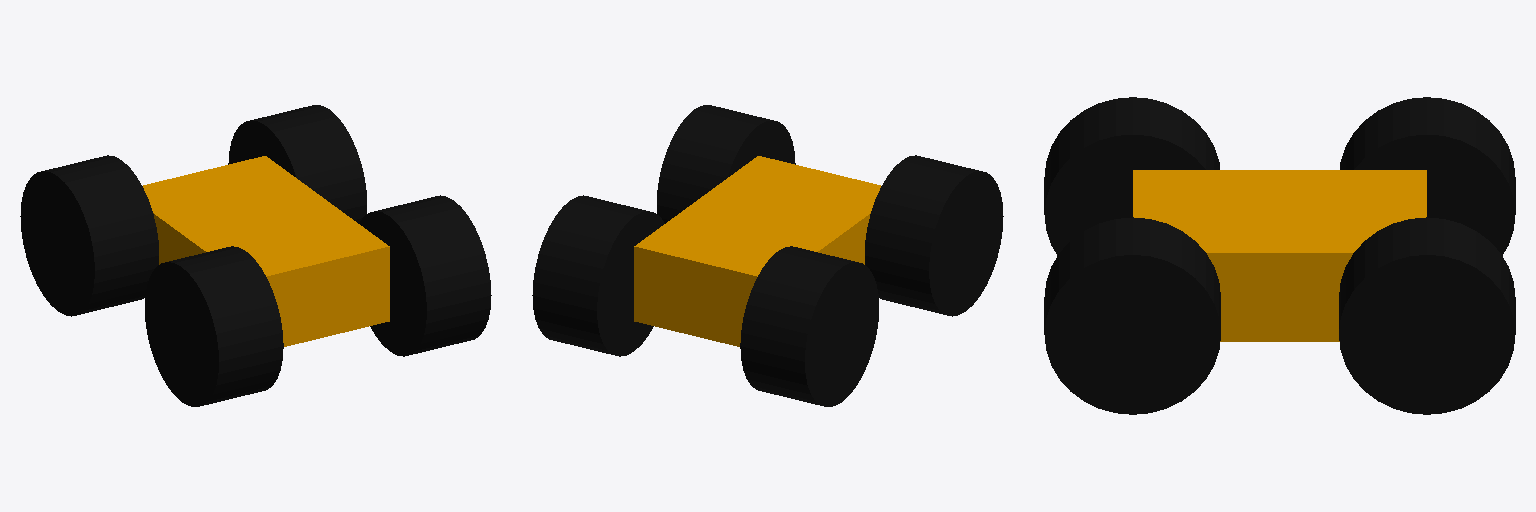
The robot description file, URDF, robot "1gou":
<?xml version="1.0"?>
<robot name="1gou">

	<link name="base_link">
		<visual>
			<geometry>
				<box size="0.2 0.3 0.1"/>
				<origin rpy="0 0 1.54" xyz="0 0 0.05"/>
				<material name="white">
					<color rgba="0.5 0.5 0.5 1"/>
				</material>
			</geometry>

		</visual>
		<collision>
			<geometry>
				<box size="0.2 0.3 0.1"/>
			</geometry>

		</collision>
		<inertial>
     		 <origin xyz="0 0 0"/>
		<mass value="0.500"/>
      		<inertia ixx="0.0020833333" ixy="0" ixz="0" iyy="0.0041666666" iyz="0" izz="0.0054166666"/>
    		</inertial>

	</link>


	<link name="wheel1">
		<visual>
			<geometry>
				<cylinder length="0.09" radius="0.09"/>
				
			</geometry>
			<origin rpy="0 0 0" xyz="0 0 0"/>
			<material name="black">
				<color rgba="0.1 0.1 0.1 1"/>
			</material>

		</visual>
		<collision>
			<geometry>
				<cylinder length="0.09" radius="0.09"/>
			</geometry>

		</collision>
		
		<inertial>
      			<origin xyz="0 0 0"/>
     			 <mass value="0.500"/>
      			<inertia ixx="0.00135" ixy="0" ixz="0" iyy="0.001354" iyz="0" izz="0.002025"/>
    		</inertial>

	</link>

	<joint name="base_to_wheel1" type="continuous">
	
		<parent link="base_link"/>
		<child link="wheel1"/>
		<origin rpy="0 1.5707 0" xyz="0.145 0.15 0"/>
		<axis xyz="0 0 1"/>
	</joint>

	<link name="wheel2">
		<visual>
			<geometry>
				<cylinder length="0.09" radius="0.09"/>
				
			</geometry>
			<origin rpy="0 0 0" xyz="0 0 0"/>
			<material name="black">
				<color rgba="0.1 0.1 0.1 1"/>
			</material>

		</visual>
		<collision>
			<geometry>
				<cylinder length="0.09" radius="0.09"/>
			</geometry>

		</collision>
		<inertial>
      			<origin xyz="0 0 0"/>
     			 <mass value="0.500"/>
      			<inertia ixx="0.00135" ixy="0" ixz="0" iyy="0.001354" iyz="0" izz="0.002025"/>
    		</inertial>

	</link>

	<joint name="base_to_wheel2" type="continuous">
	
		<parent link="base_link"/>
		<child link="wheel2"/>
		<origin rpy="0 1.5707 0" xyz="-0.145 0.15 0"/>
		<axis xyz="0 0 1"/>
	</joint>

	<link name="wheel3">
		<visual>
			<geometry>
				<cylinder length="0.09" radius="0.09"/>
				
			</geometry>
			<origin rpy="0 0 0" xyz="0 0 0"/>
			<material name="black">
				<color rgba="0.1 0.1 0.1 1"/>
			</material>

		</visual>
		<collision>
			<geometry>
				<cylinder length="0.09" radius="0.09"/>
			</geometry>

		</collision>
		<inertial>
      			<origin xyz="0 0 0"/>
     			 <mass value="0.500"/>
      			<inertia ixx="0.00135" ixy="0" ixz="0" iyy="0.001354" iyz="0" izz="0.002025"/>
    		</inertial>

	</link>

	<joint name="base_to_wheel3" type="continuous">
	
		<parent link="base_link"/>
		<child link="wheel3"/>
		<origin rpy="0 1.5707 0" xyz="0.145 -0.15 0"/>
		<axis xyz="0 0 1"/>
	</joint>

	<link name="wheel4">
		<visual>
			<geometry>
				<cylinder length="0.09" radius="0.09"/>
				
			</geometry>
			<origin rpy="0 0 0" xyz="0 0 0"/>
			<material name="black">
				<color rgba="0.1 0.1 0.1 1"/>
			</material>

		</visual>
		<collision>
			<geometry>
				<cylinder length="0.09" radius="0.09"/>
			</geometry>

		</collision>

		<inertial>
      			<origin xyz="0 0 0"/>
     			 <mass value="0.500"/>
      			<inertia ixx="0.00135" ixy="0" ixz="0" iyy="0.001354" iyz="0" izz="0.002025"/>
    		</inertial>

	</link>

	<joint name="base_to_wheel4" type="continuous">
	
		<parent link="base_link"/>
		<child link="wheel4"/>
		<origin rpy="0 1.5707 0" xyz="-0.145 -0.15 0"/>
		<axis xyz="0 0 1"/>
	</joint>
	<link name="base_footprint"/>
  		<joint name="base_link_joint" type="fixed">
    		<parent link="base_footprint"/>
    		<child link="base_link"/>
    		<origin xyz="0 0 0.100"/>
  		</joint>

	<!-- ===============  Transmission =============== -->
  <transmission name="left_wheel4_trans">
    <type>transmission_interface/SimpleTransmission</type>
    <joint name="base_to_wheel4">
      <hardwareInterface>VelocityJointInterface</hardwareInterface>
    </joint>
    <actuator name="left_wheel4_motor">
      <hardwareInterface>VelocityJointInterface</hardwareInterface>
      <mechanicalReduction>30</mechanicalReduction>
    </actuator>
  </transmission>

   <transmission name="left_wheel3_trans">
    <type>transmission_interface/SimpleTransmission</type>
    <joint name="base_to_wheel3">
      <hardwareInterface>VelocityJointInterface</hardwareInterface>
    </joint>
    <actuator name="left_wheel3_motor">
      <hardwareInterface>VelocityJointInterface</hardwareInterface>
      <mechanicalReduction>30</mechanicalReduction>
    </actuator>
  </transmission>
  

  <transmission name="right_wheel1_trans">
    <type>transmission_interface/SimpleTransmission</type>
    <joint name="base_to_wheel1">
      <hardwareInterface>VelocityJointInterface</hardwareInterface>
    </joint>
    <actuator name="right_wheel1_motor">
      <hardwareInterface>VelocityJointInterface</hardwareInterface>
      <mechanicalReduction>30</mechanicalReduction>
    </actuator>
  </transmission>

  <transmission name="right_wheel2_trans">
    <type>transmission_interface/SimpleTransmission</type>
    <joint name="base_to_wheel2">
      <hardwareInterface>VelocityJointInterface</hardwareInterface>
    </joint>
    <actuator name="right_wheel2_motor">
      <hardwareInterface>VelocityJointInterface</hardwareInterface>
      <mechanicalReduction>30</mechanicalReduction>
    </actuator>
  </transmission>

<!-- =============== Gazebo =============== -->
  <gazebo>
    <plugin name="gazebo_ros_control" filename="libgazebo_ros_control.so">
      <robotNamespace>my_robo</robotNamespace>
    </plugin>
  </gazebo>
 
  <gazebo reference="base_link">
    <selfCollide>true</selfCollide>
    <mu1 value="0.05" />
    <mu2 value="0.05" />
  </gazebo>
 
  <gazebo reference="wheel1">
    <selfCollide>true</selfCollide>
    <mu1 value="0.8" />
    <mu2 value="0.8" />
  </gazebo>
 
  <gazebo reference="wheel2">
    <selfCollide>true</selfCollide>
    <mu1 value="0.8" />
    <mu2 value="0.8" />
  </gazebo>
  <gazebo reference="wheel3">
    <selfCollide>true</selfCollide>
    <mu1 value="0.8" />
    <mu2 value="0.8" />
  </gazebo>
 
  <gazebo reference="wheel4">
    <selfCollide>true</selfCollide>
    <mu1 value="0.8" />
    <mu2 value="0.8" />
  </gazebo>









</robot>

--- Render facts (derived) ---
Views: 3 orthographic renders of the robot side by side, from view 1: azimuth 30°, elevation 25°; view 2: azimuth 150°, elevation 25°; view 3: azimuth 270°, elevation 25°.
Robot: 1gou — 6 links, 5 joints (4 continuous, 1 fixed); root link base_footprint; default pose: every joint at zero.
Visible links, largest first — view 1: base_link, wheel4, wheel2, wheel3, wheel1; view 2: base_link, wheel2, wheel4, wheel1, wheel3; view 3: base_link, wheel1, wheel3, wheel2, wheel4.
Boxes of the visible links, x1,y1,x2,y2 form: base_link: [143, 156, 389, 346]; wheel4: [145, 246, 283, 406]; wheel2: [20, 155, 158, 316]; wheel3: [359, 195, 491, 356]; wheel1: [228, 105, 366, 223]; base_link: [634, 156, 880, 346]; wheel2: [740, 246, 878, 406]; wheel4: [865, 155, 1003, 316]; wheel1: [532, 195, 664, 356]; wheel3: [657, 105, 795, 223]; base_link: [1133, 170, 1426, 341]; wheel1: [1339, 217, 1515, 414]; wheel3: [1044, 217, 1220, 414]; wheel2: [1340, 97, 1515, 255]; wheel4: [1044, 97, 1219, 255].
Size in the robot's own frame: 0.38 by 0.48 by 0.18 metres.
Geometry: primitives only (box / cylinder / sphere), no mesh files.